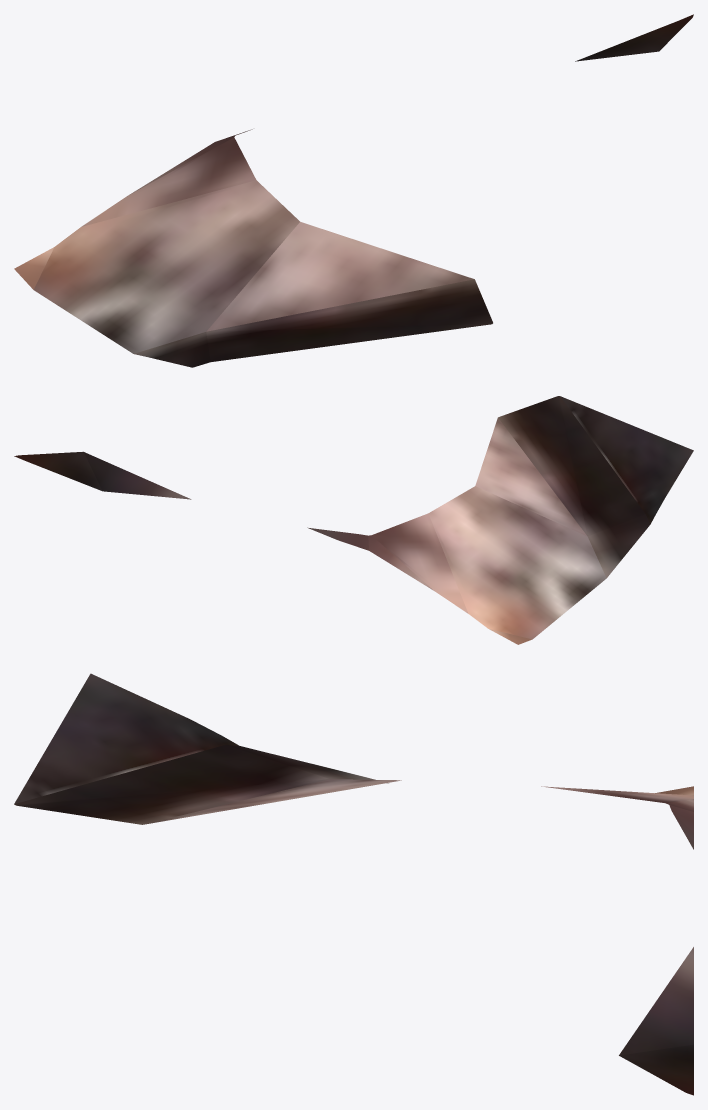
The picture shows the model from 3 angles, top to bottom: view 1: azimuth 30°, elevation 25°; view 2: azimuth 150°, elevation 25°; view 3: azimuth 270°, elevation 25°; orthographic projection. The views are drawn at different scales.
Size of the model in its own units: 0.2363 by 0.0317 by 0.1608.
1 material, 1 textured.
